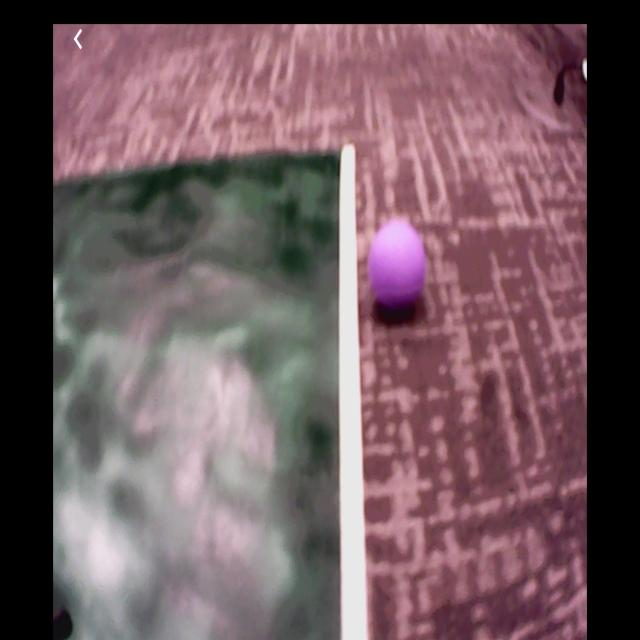ball: (371, 221, 426, 309)
